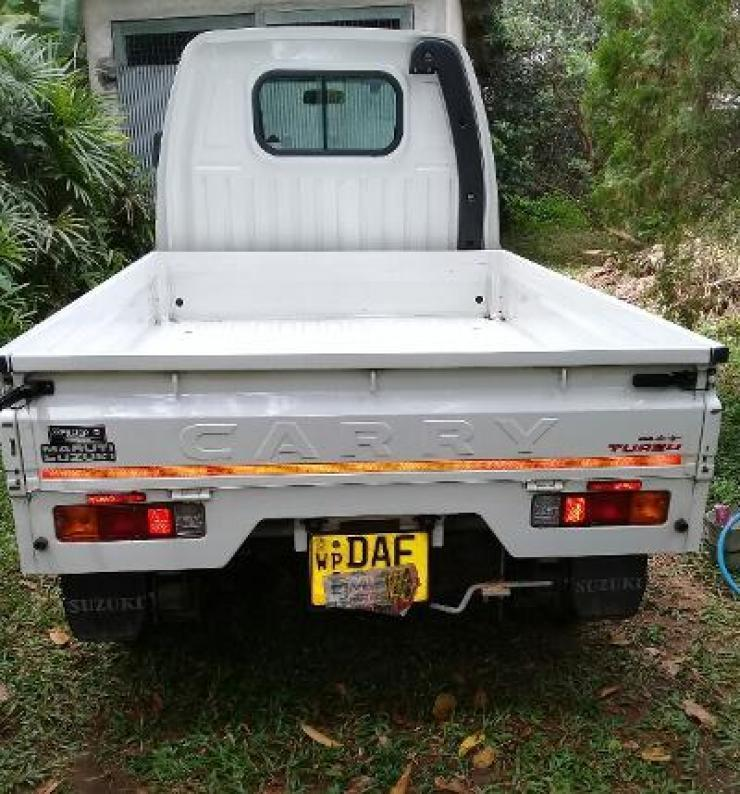truck: (1, 26, 729, 642)
